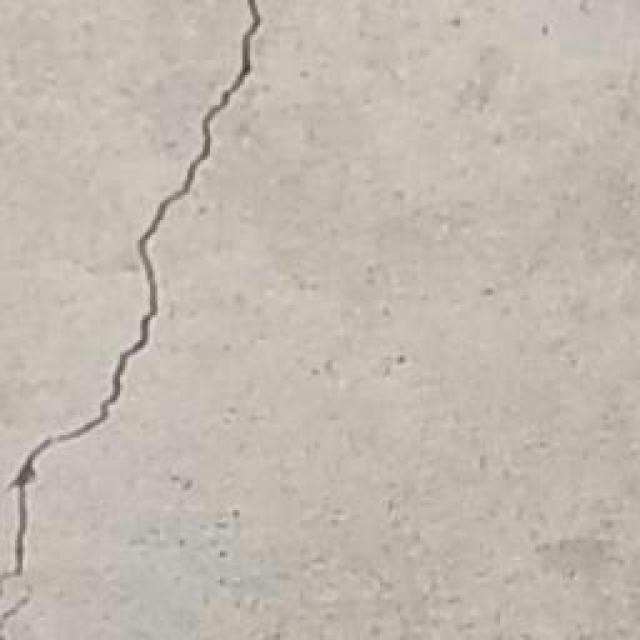concrete-crack: (12, 0, 262, 580)
